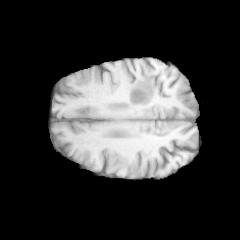glioma: (128, 79, 154, 105)
